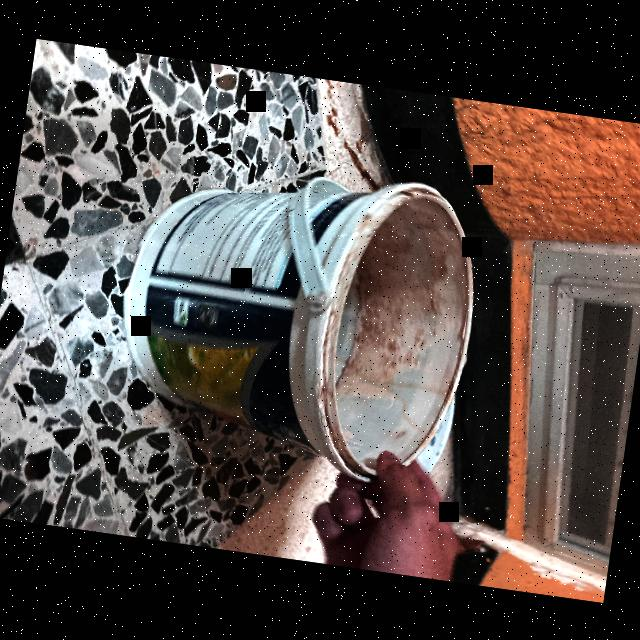paint_bucket: (100, 146, 492, 490)
